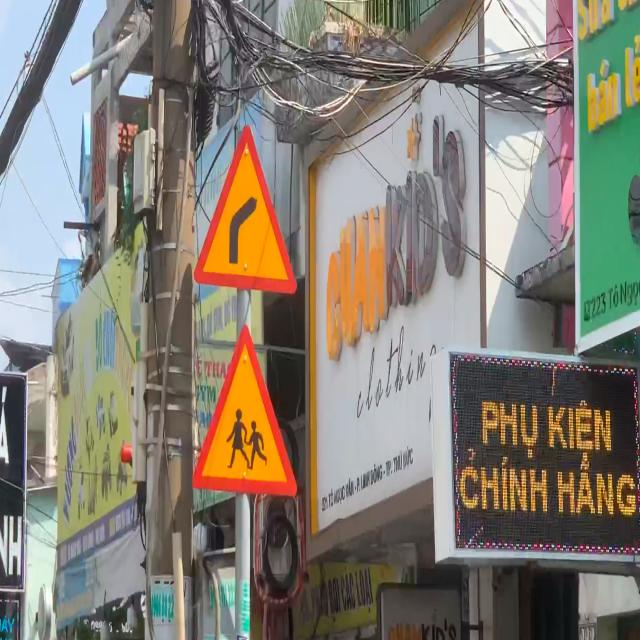Nguy hiem: (184, 309, 308, 508), (188, 118, 302, 300)
